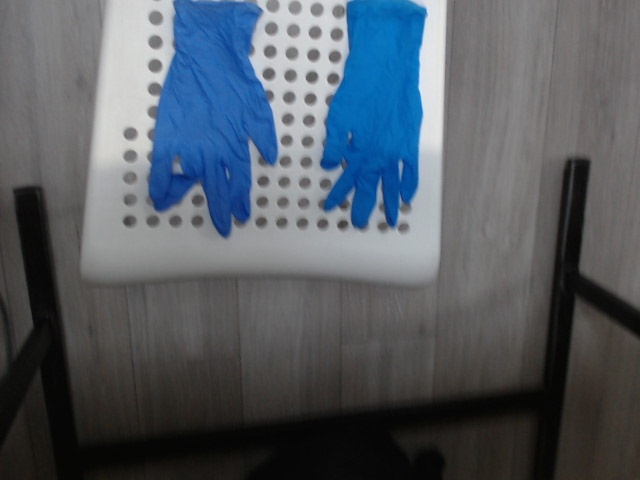medical_glove: (148, 1, 278, 235), (324, 1, 428, 231)
